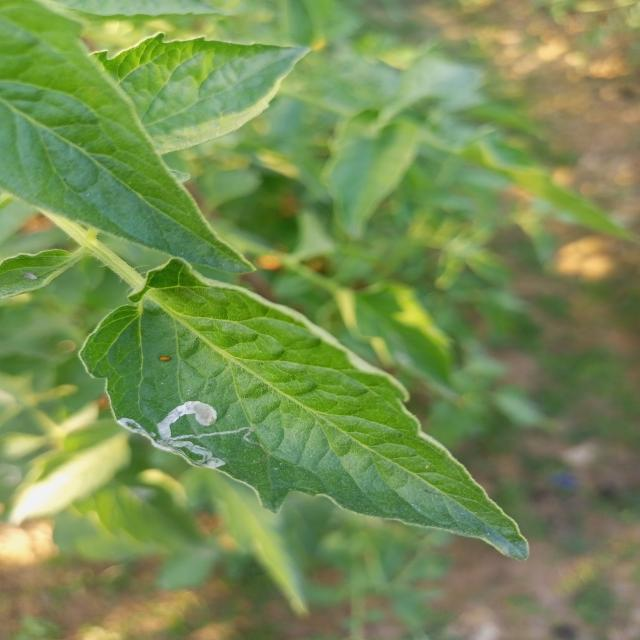Tuta absoluta: (148, 388, 249, 480), (117, 415, 143, 433)
